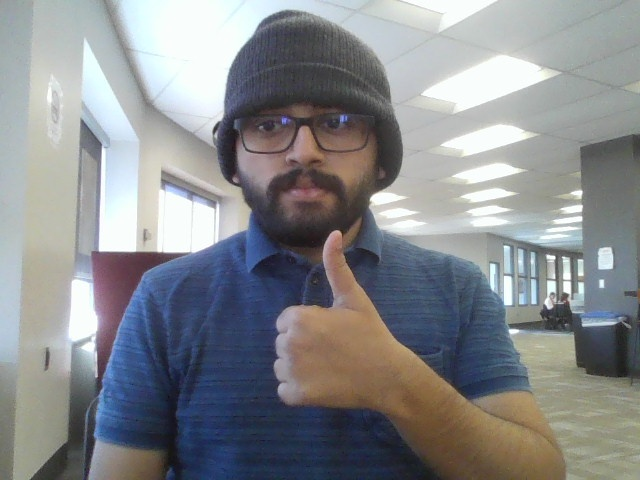start: (254, 221, 412, 457)
